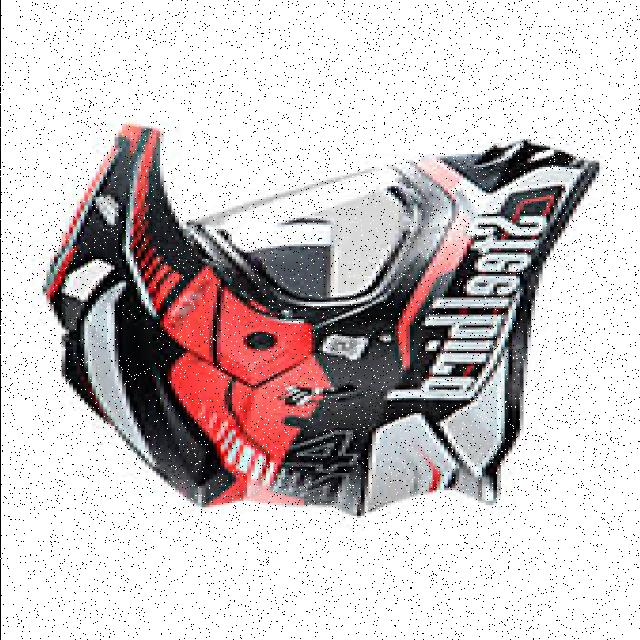Helmet: (44, 128, 594, 515)
